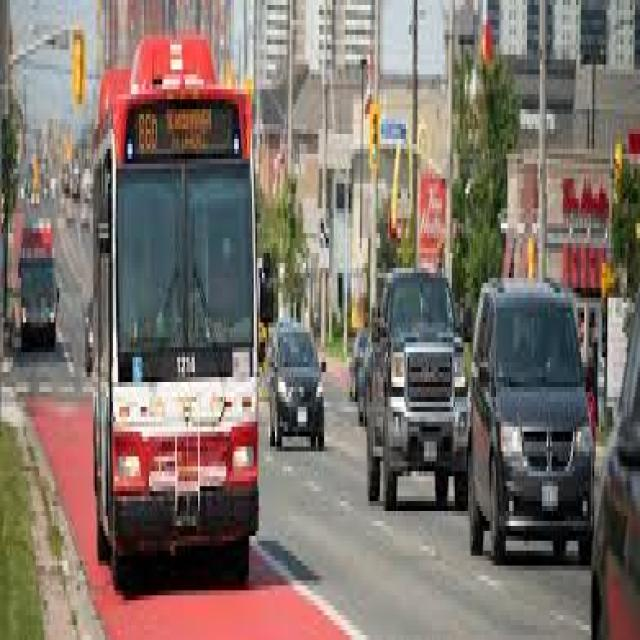bus: (259, 252, 378, 640)
person: (12, 503, 49, 640)
